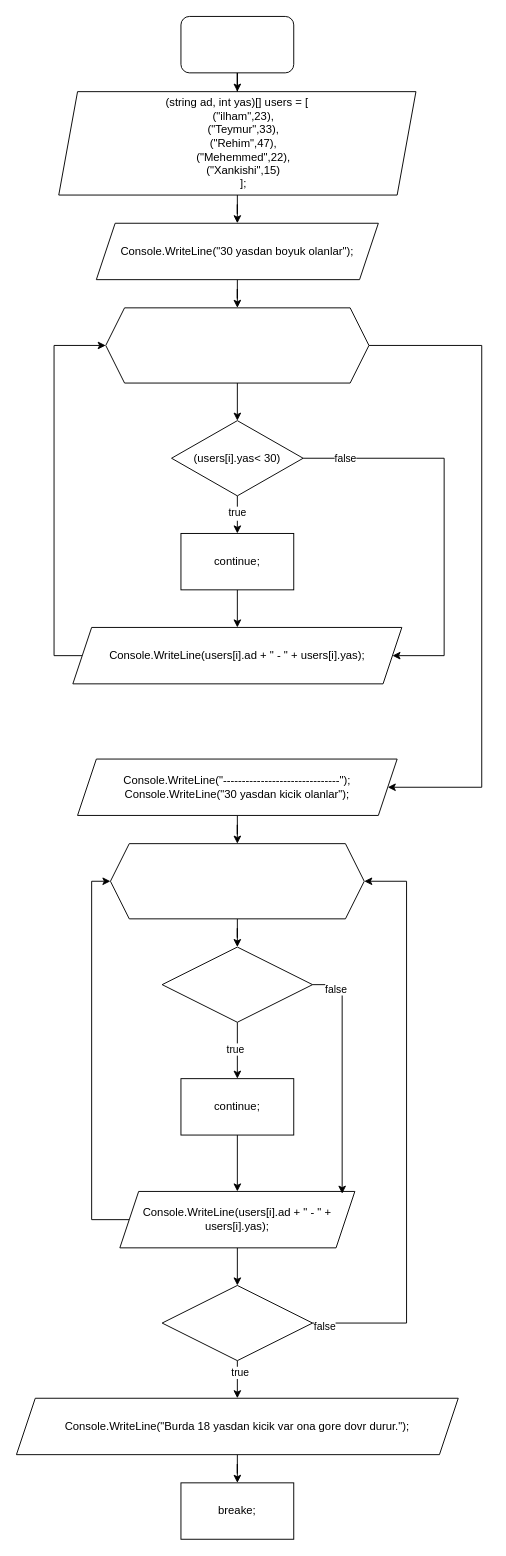
Some shapes in this 506 by 1556 pixel diagram are drawn without their labels. The centre of each missing label's shape, as x and y in pixels:
"for (int i = 0; i < users.Length; i++)" goes at pixel 237 881.
"for( int i = 0, i < users.Length <i++)" goes at pixel 237 345.
"start" goes at pixel 237 44.
"users[i].yas < 18" goes at pixel 237 1323.
"users[i].yas > 30" goes at pixel 237 984.
